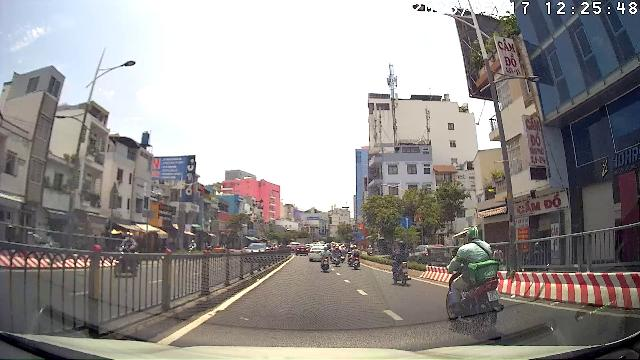301a-cac-xe-chi-duoc-di-thang: (402, 216, 412, 229)
